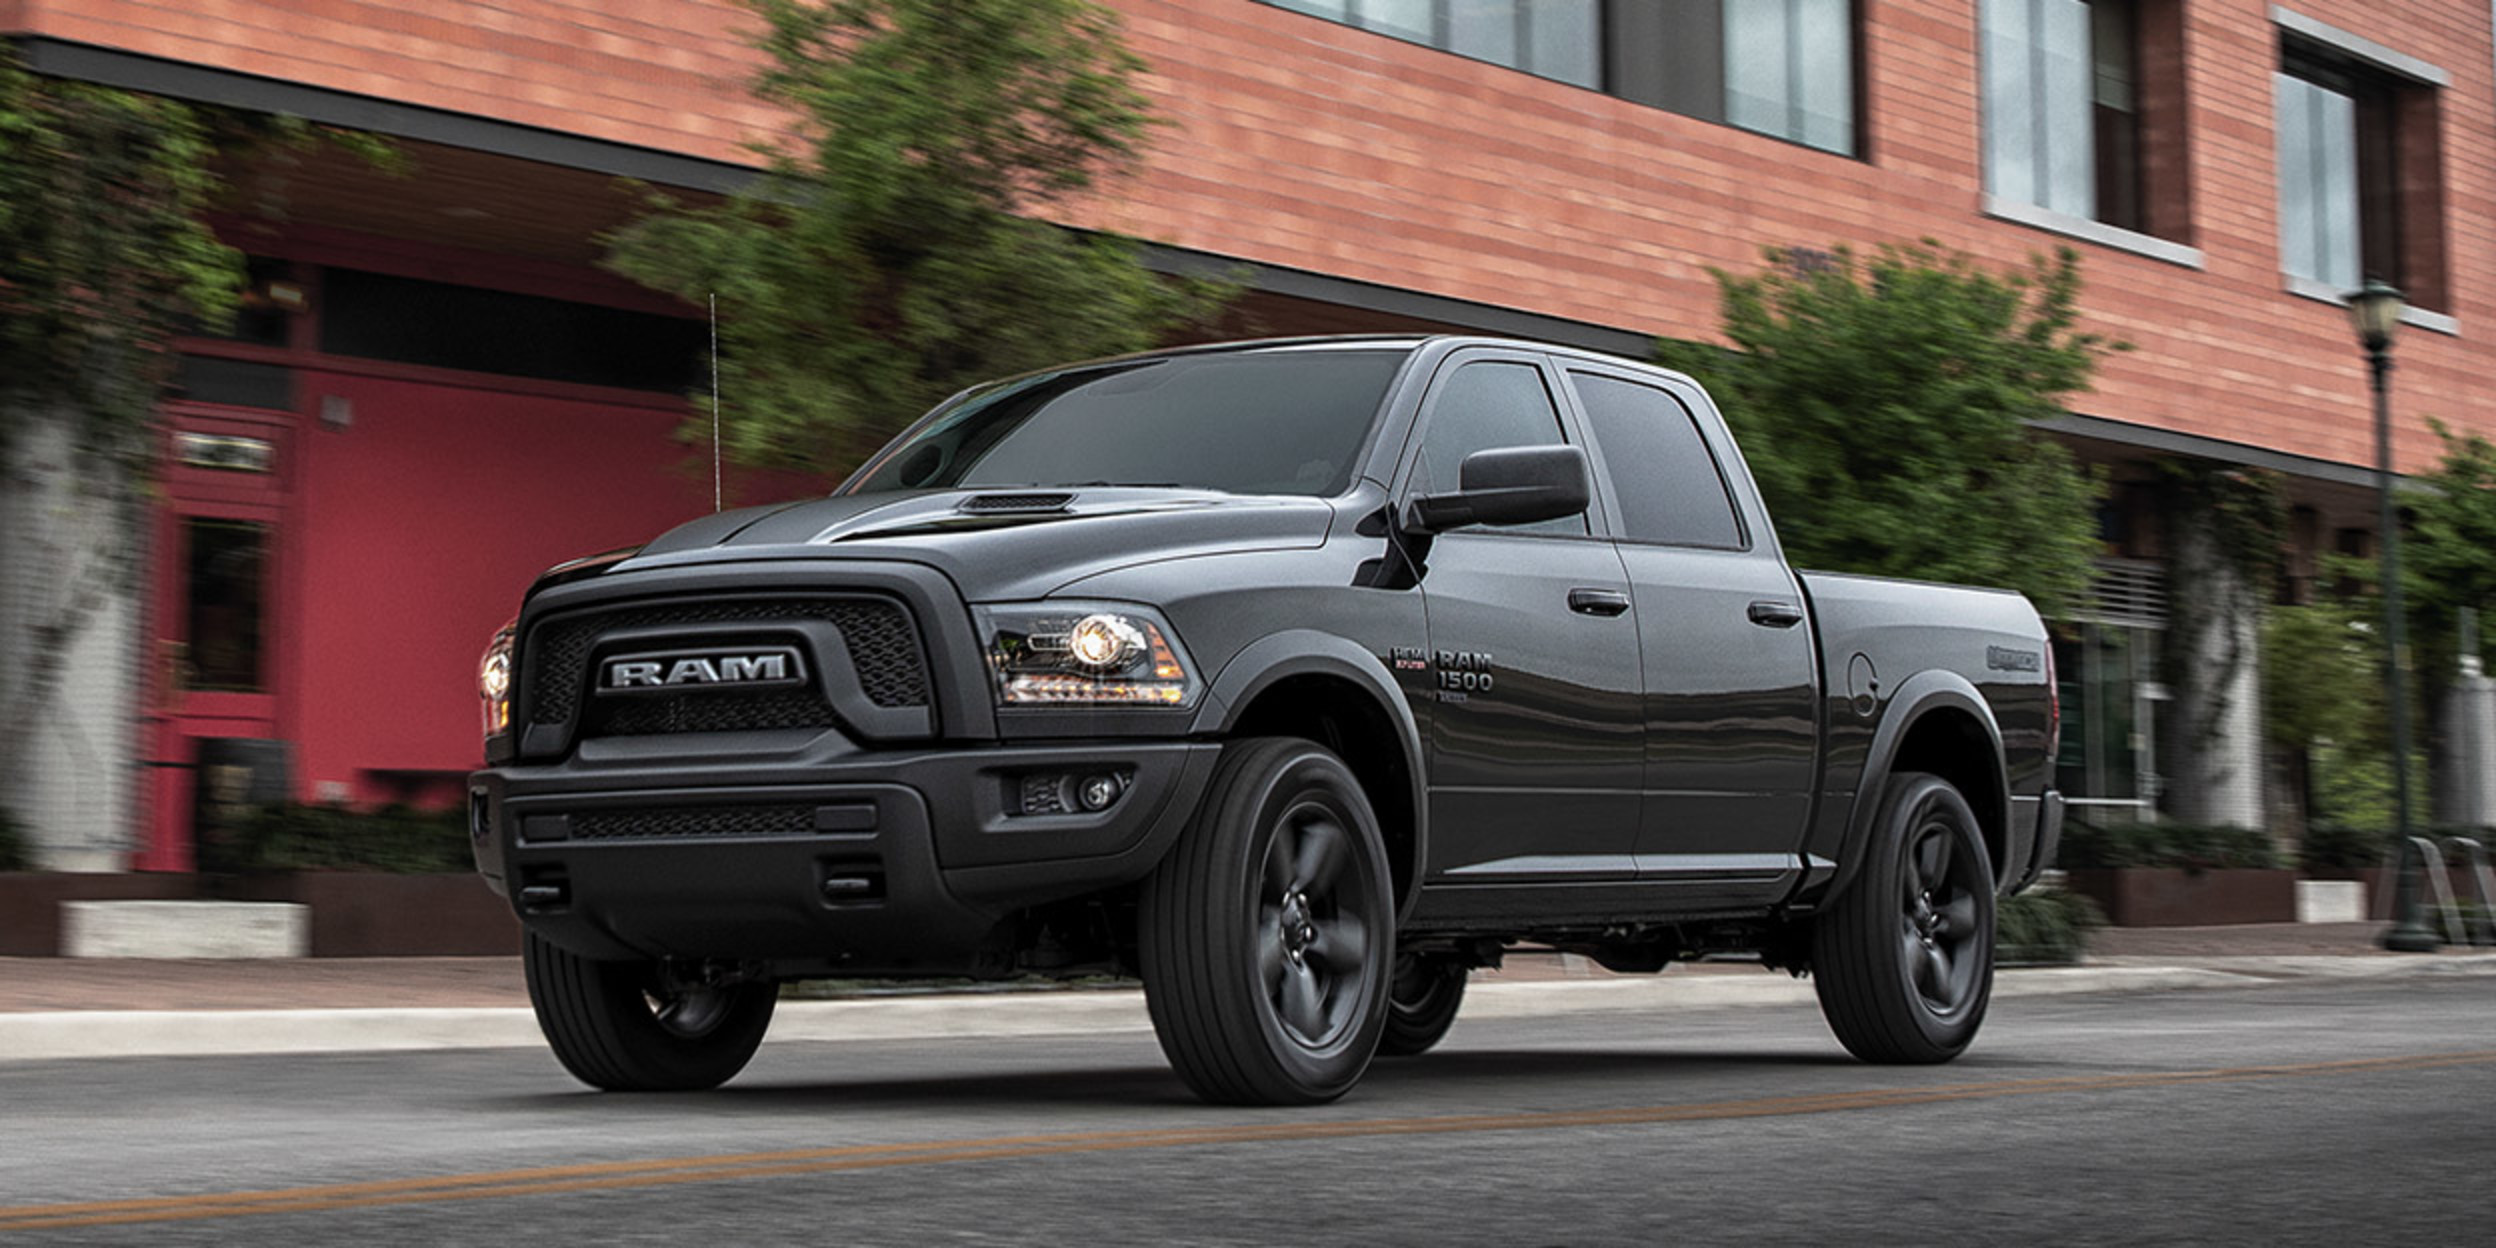Car: (454, 318, 2092, 1113)
